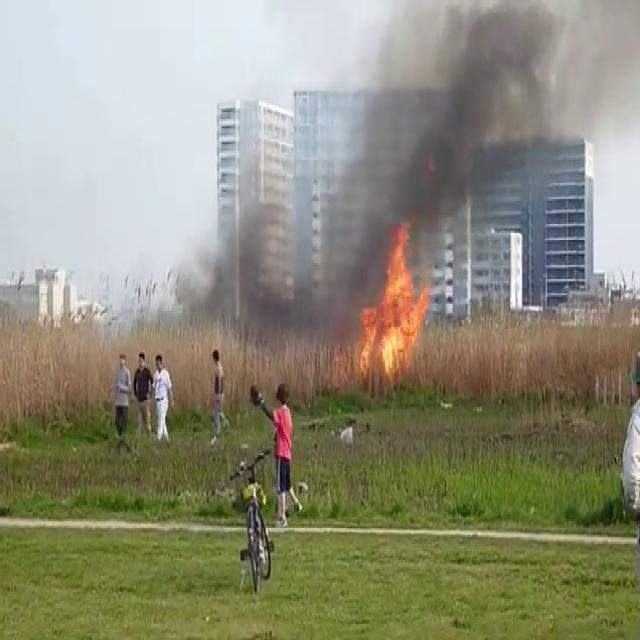Fire: (354, 228, 431, 384)
Smoke: (305, 0, 640, 295), (180, 157, 353, 362)
